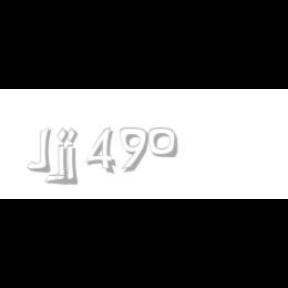4: (86, 128, 116, 174)
9: (120, 128, 148, 172)
J: (26, 128, 51, 172)
j: (54, 128, 84, 186), (64, 128, 92, 186)
o: (148, 128, 178, 158)
